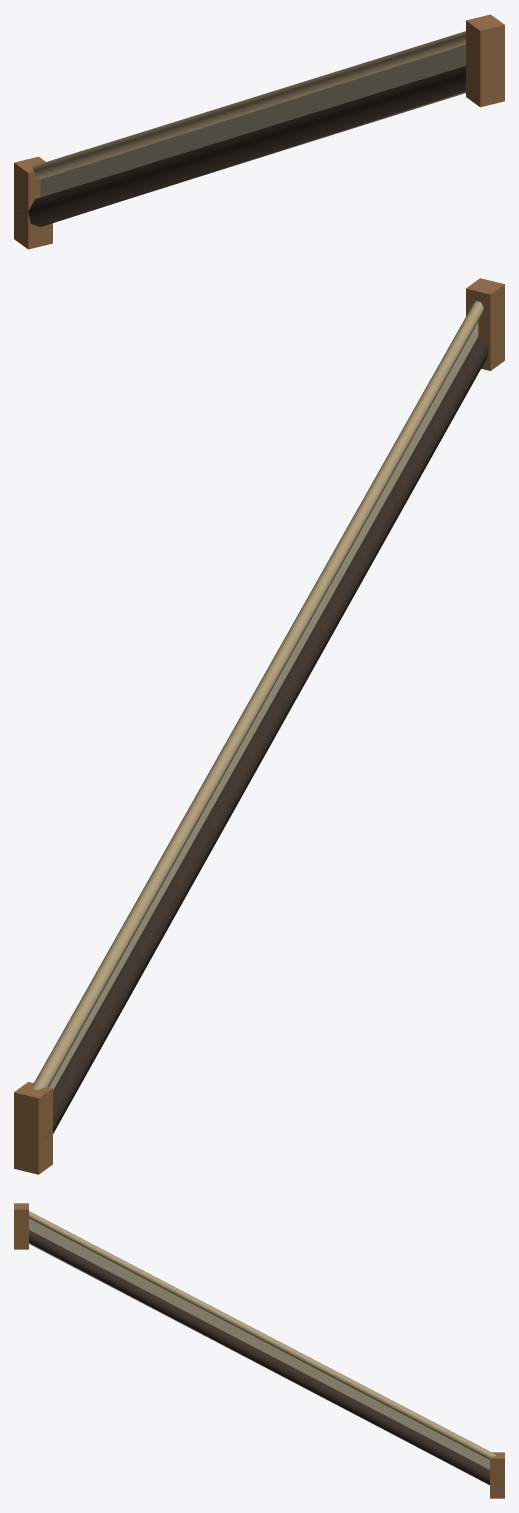
File: Roof_GableEdge_30_Left.glb
3 views of the same model, one above another, from view 1: azimuth 30°, elevation 25°; view 2: azimuth 150°, elevation 25°; view 3: azimuth 270°, elevation 25° (orthographic). The views are drawn at different scales.
Parts seen in each view (by area): view 1: _MeshInstance3D_3606, _MeshInstance3D_3605, _MeshInstance3D_3607, _MeshInstance3D_3609, _MeshInstance3D_3608; view 2: _MeshInstance3D_3606, _MeshInstance3D_3607, _MeshInstance3D_3605, _MeshInstance3D_3608, _MeshInstance3D_3609; view 3: _MeshInstance3D_3606, _MeshInstance3D_3605, _MeshInstance3D_3607, _MeshInstance3D_3609, _MeshInstance3D_3608.
Boxes of the visible parts, bbox=[...] form: _MeshInstance3D_3606: bbox=[20, 66, 465, 226]; _MeshInstance3D_3605: bbox=[40, 44, 465, 197]; _MeshInstance3D_3607: bbox=[32, 31, 465, 179]; _MeshInstance3D_3609: bbox=[466, 14, 504, 107]; _MeshInstance3D_3608: bbox=[14, 156, 52, 249]; _MeshInstance3D_3606: bbox=[45, 336, 488, 1139]; _MeshInstance3D_3607: bbox=[32, 301, 483, 1089]; _MeshInstance3D_3605: bbox=[49, 322, 478, 1090]; _MeshInstance3D_3608: bbox=[14, 1082, 52, 1174]; _MeshInstance3D_3609: bbox=[466, 278, 504, 370]; _MeshInstance3D_3606: bbox=[29, 1230, 497, 1485]; _MeshInstance3D_3605: bbox=[29, 1218, 489, 1469]; _MeshInstance3D_3607: bbox=[29, 1211, 495, 1459]; _MeshInstance3D_3609: bbox=[14, 1203, 28, 1249]; _MeshInstance3D_3608: bbox=[490, 1452, 504, 1498].
Size of the model in its own units: 0.0955 by 2.01 by 3.09.
